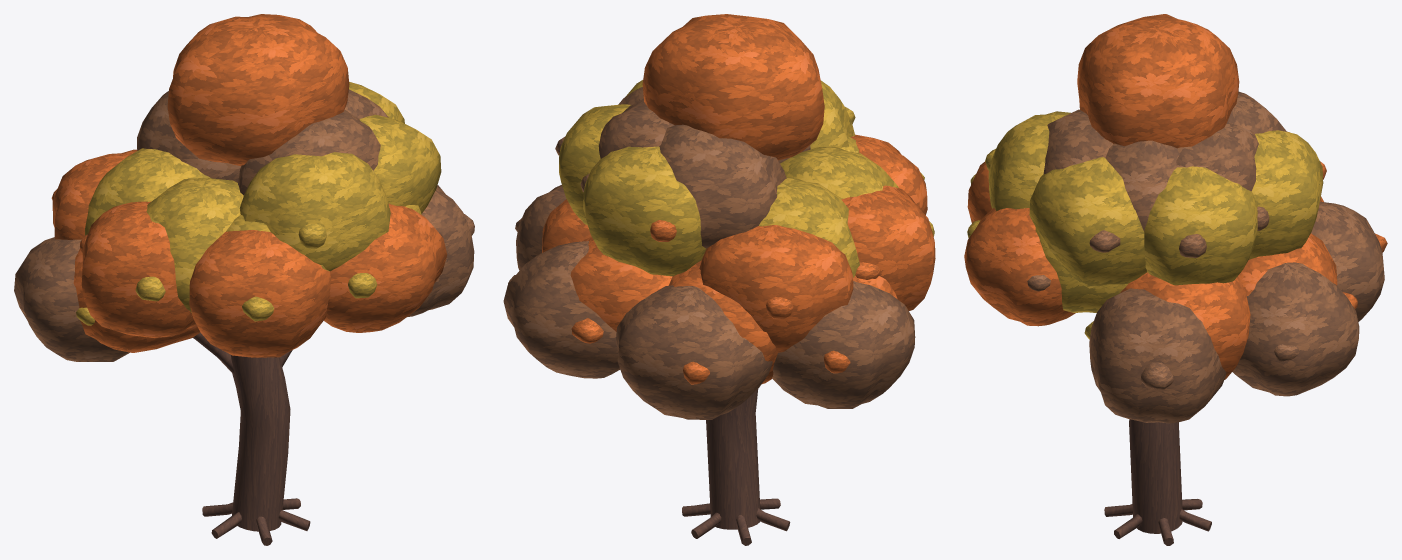
File: tree_3.glb
3 views of the same model, side by side, from view 1: azimuth 30°, elevation 25°; view 2: azimuth 150°, elevation 25°; view 3: azimuth 270°, elevation 25° (orthographic).
Parts seen in each view (by area): view 1: tree_3; view 2: tree_3; view 3: tree_3.
Boxes of the visible parts, x1,y1,x2,y2 form: tree_3: (14,14,474,545); tree_3: (503,14,935,545); tree_3: (964,14,1387,545).
Bounding box in the file's own units: 5.98 × 6.79 × 5.27.
Materials: 1 (1 with a texture image).
